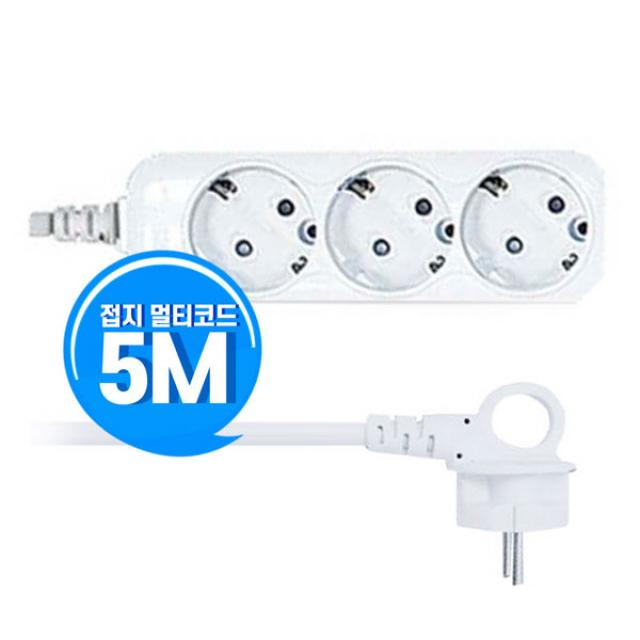typeb: (115, 136, 629, 336)
